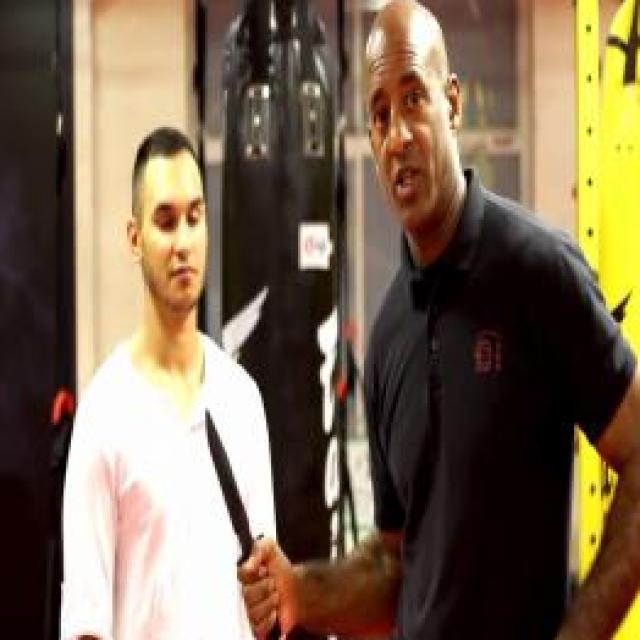knife: (200, 400, 288, 640)
